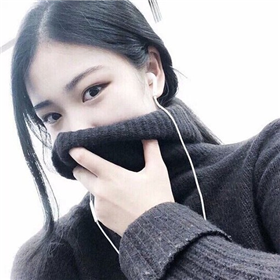face: (30, 41, 141, 192)
